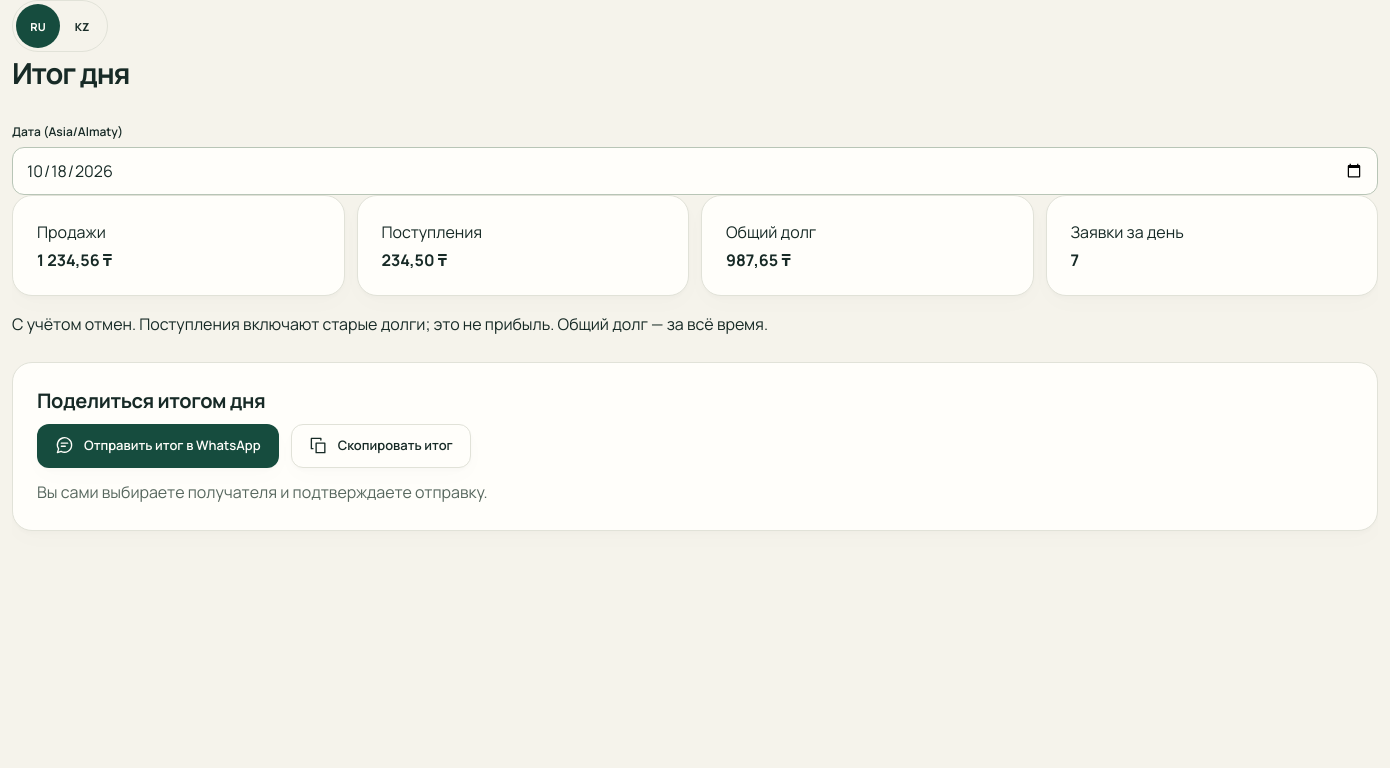
summary sharing states and isolation › enables the loaded message without extra requests or financial POST
Click the button "Скопировать итог" at (381, 446), box top-left (291, 424), bottom-right (471, 468)
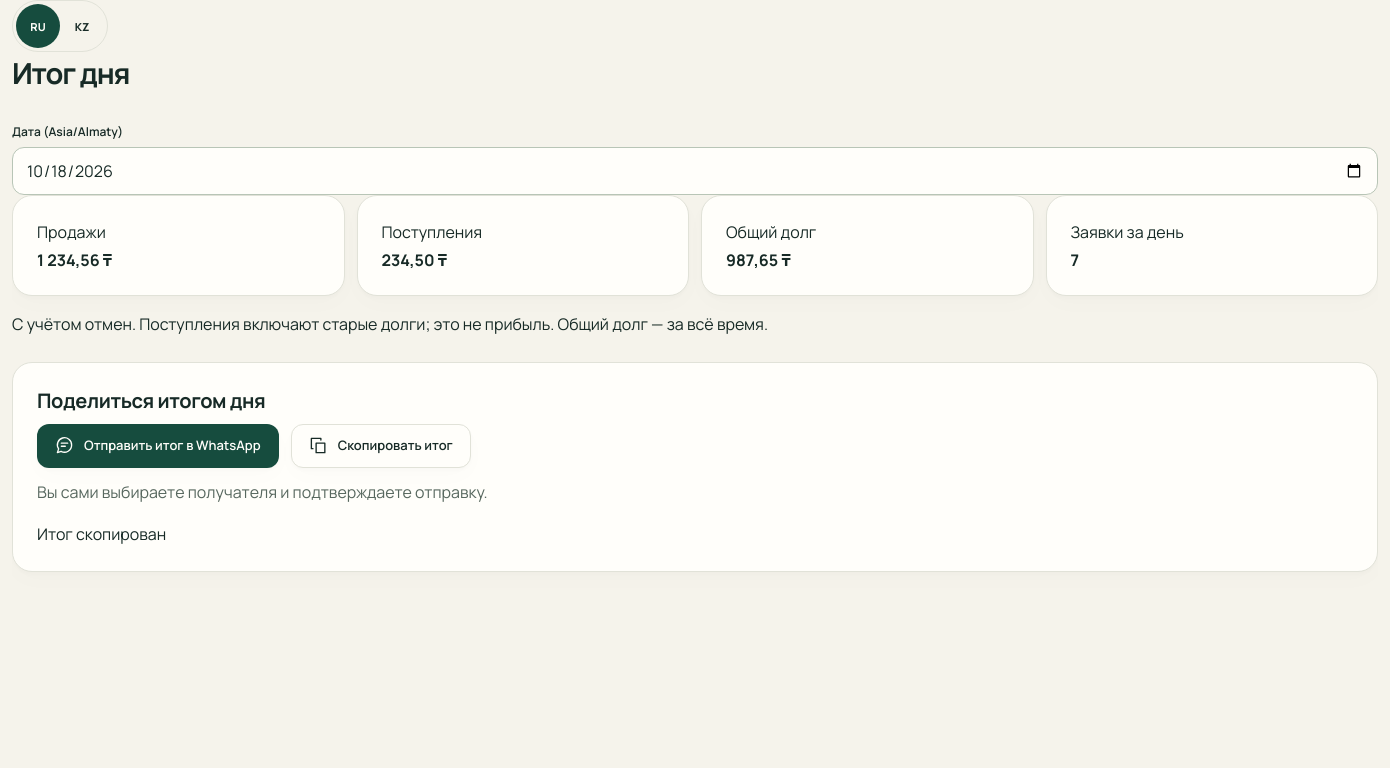
Expected: the message reads "Итог скопирован", top-left (37, 523), bottom-right (166, 545)
